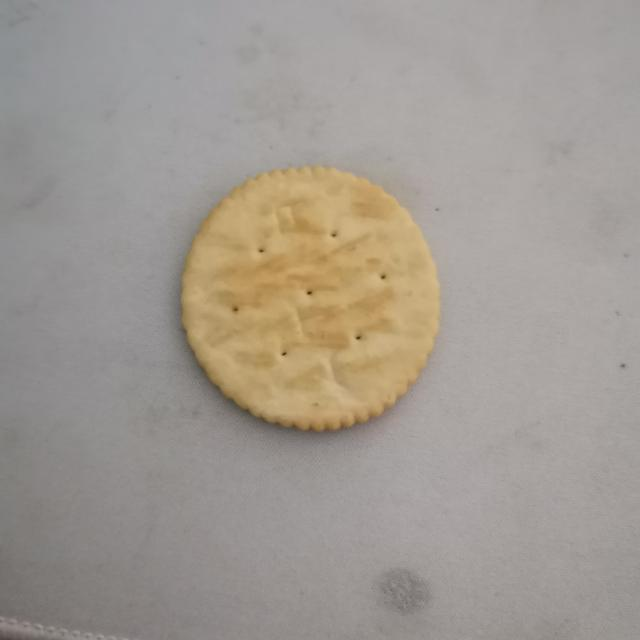Intact: (172, 155, 453, 448)
